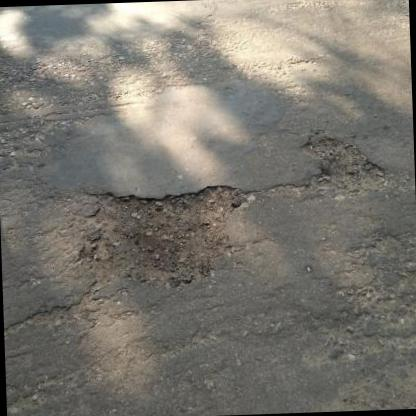pothole: (70, 180, 242, 298), (298, 132, 390, 204)
